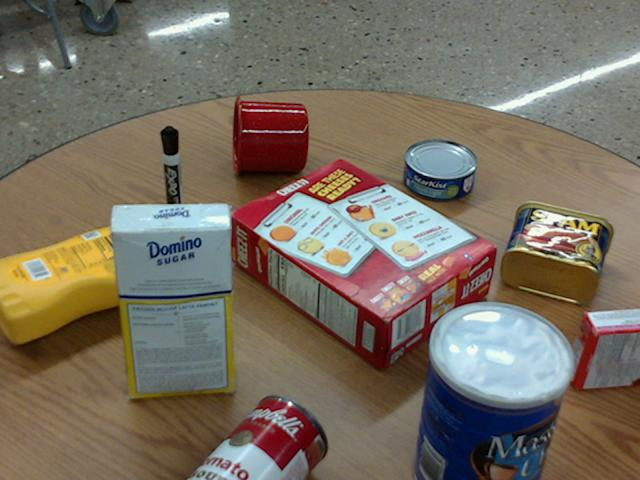cracker_box: (228, 158, 494, 364)
gelatin_box: (567, 307, 639, 389)
large_marker: (161, 126, 184, 228)
master_chef_can: (413, 302, 572, 479)
mug: (232, 96, 308, 176)
mustard_bottle: (0, 225, 187, 342)
potted_meat_can: (501, 200, 613, 303)
sugar_box: (109, 202, 231, 396)
tomato_soup_can: (187, 394, 328, 479)
tuna_fish_can: (404, 139, 477, 199)
